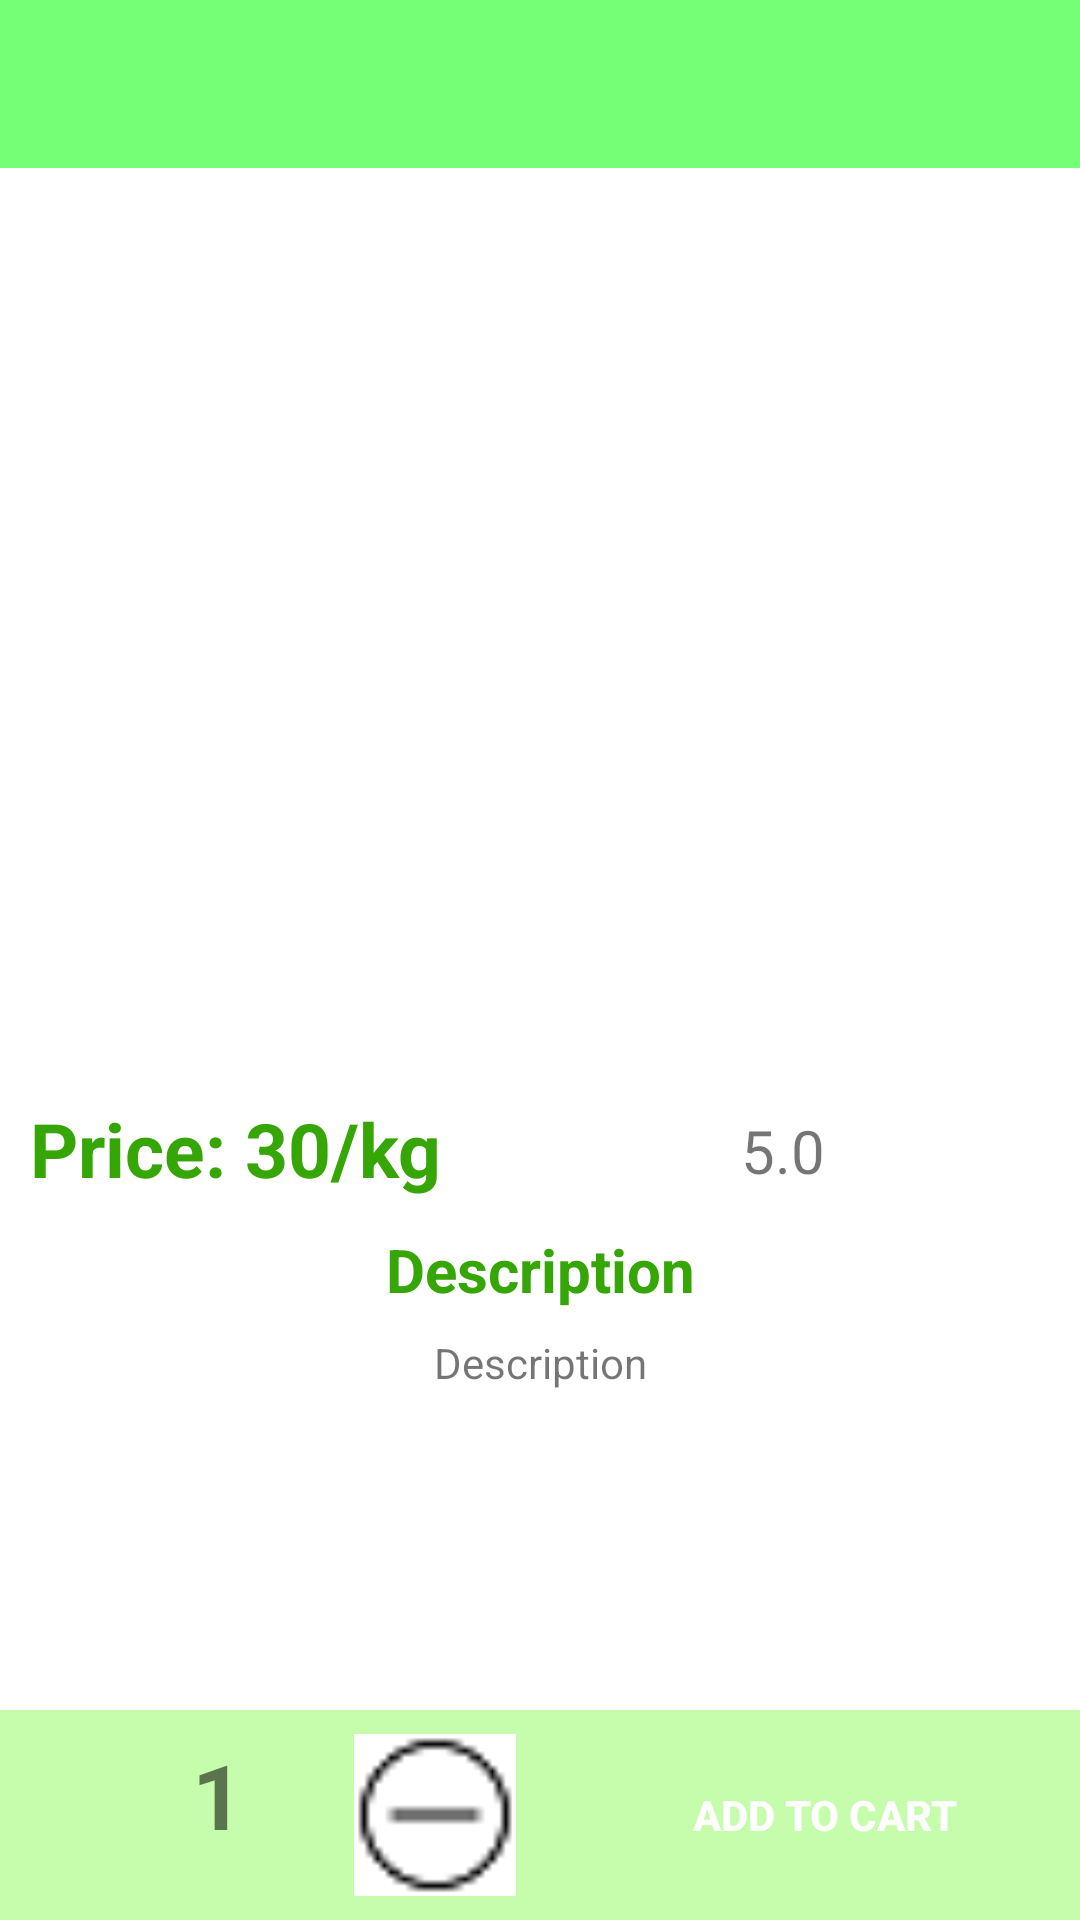

Point at icon controls on the screen. Image size 1080*1920, points as point (x, y).
Remove Item Image: point (435, 1815)
